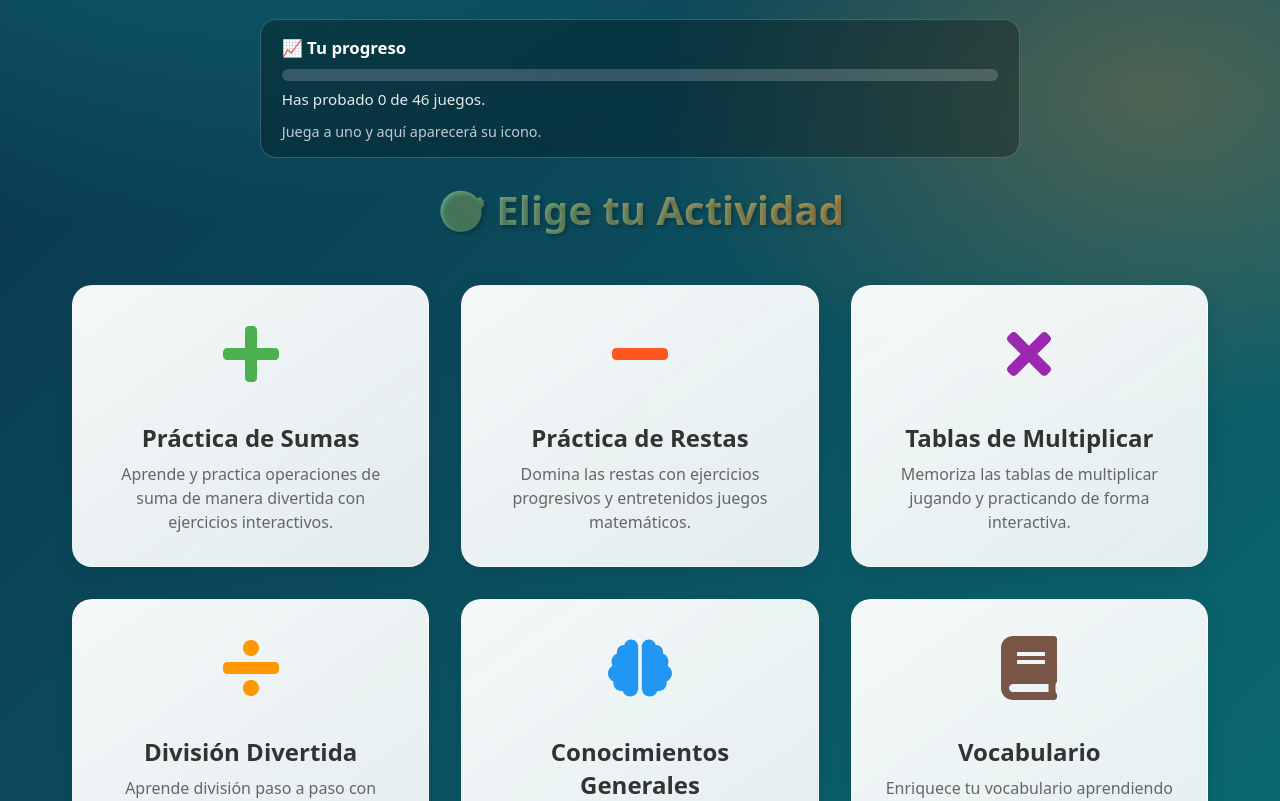
Test: entrar en un juego lo carga y lo pinta
(page scrolled)
// "Práctica de Sumas" lleva a la categoría, y de ahí al primer juego.
Click the heading "Práctica de Sumas": (251, 437) x1=142 y1=421 x2=360 y2=454
(page scrolled)
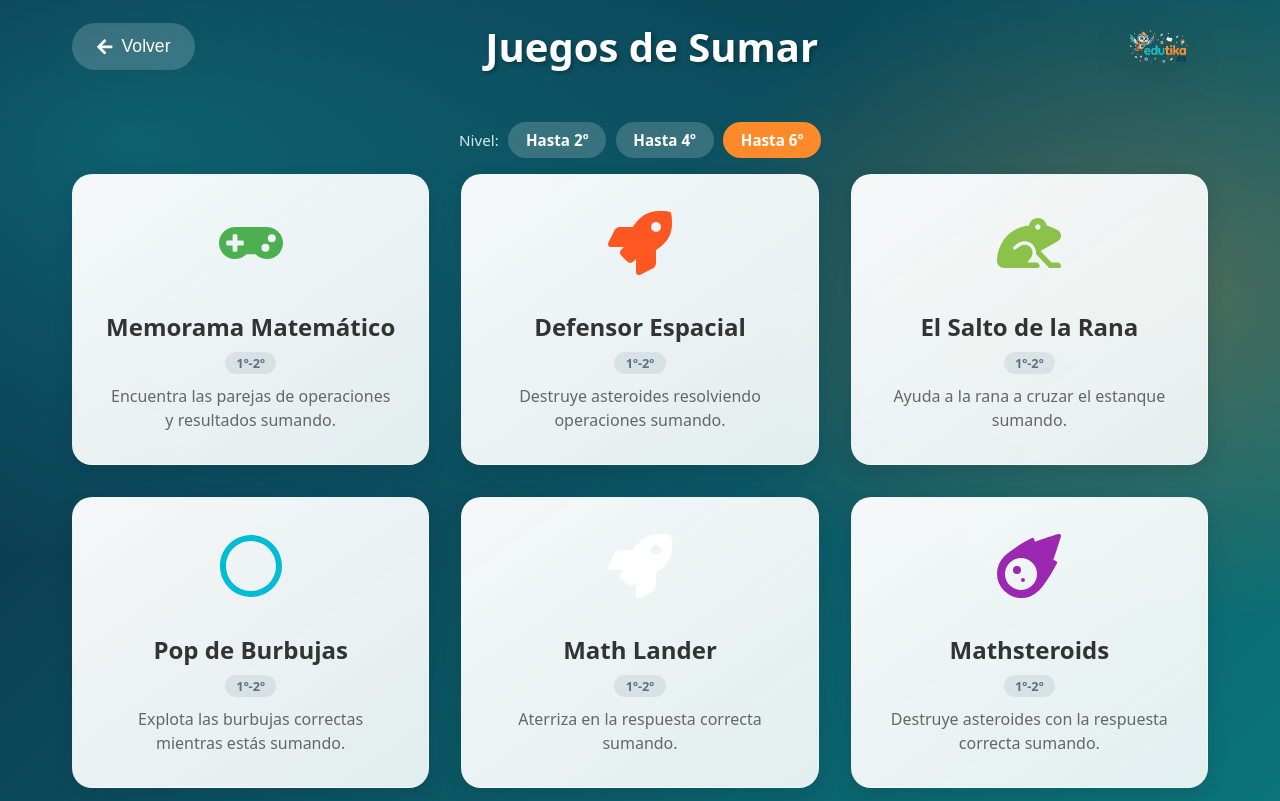
Expected: the heading "Memorama Matemático" is shown
// Y el juego lazy se pinta.
Click the heading "Memorama Matemático": (251, 326) x1=105 y1=310 x2=396 y2=343
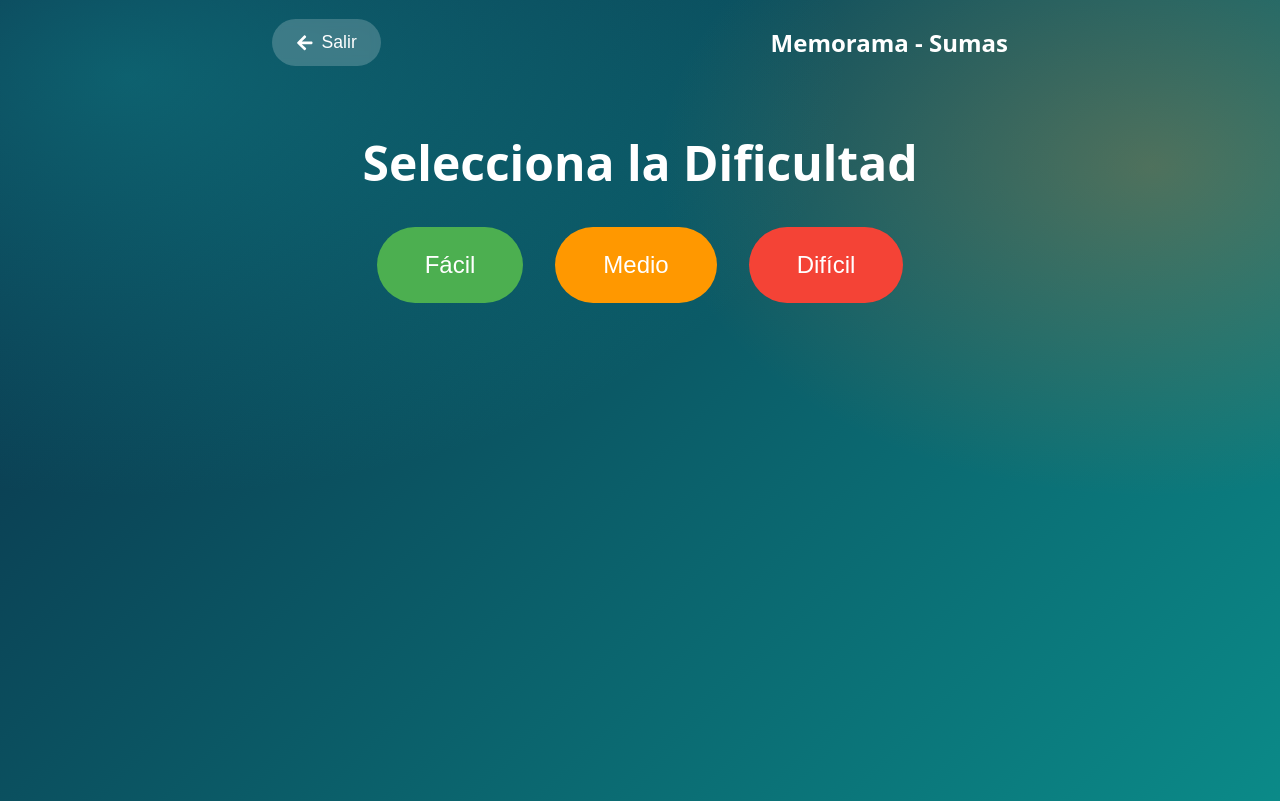
Expected: the heading "Memorama - Sumas" is shown, x1=771 y1=26 x2=1008 y2=59
